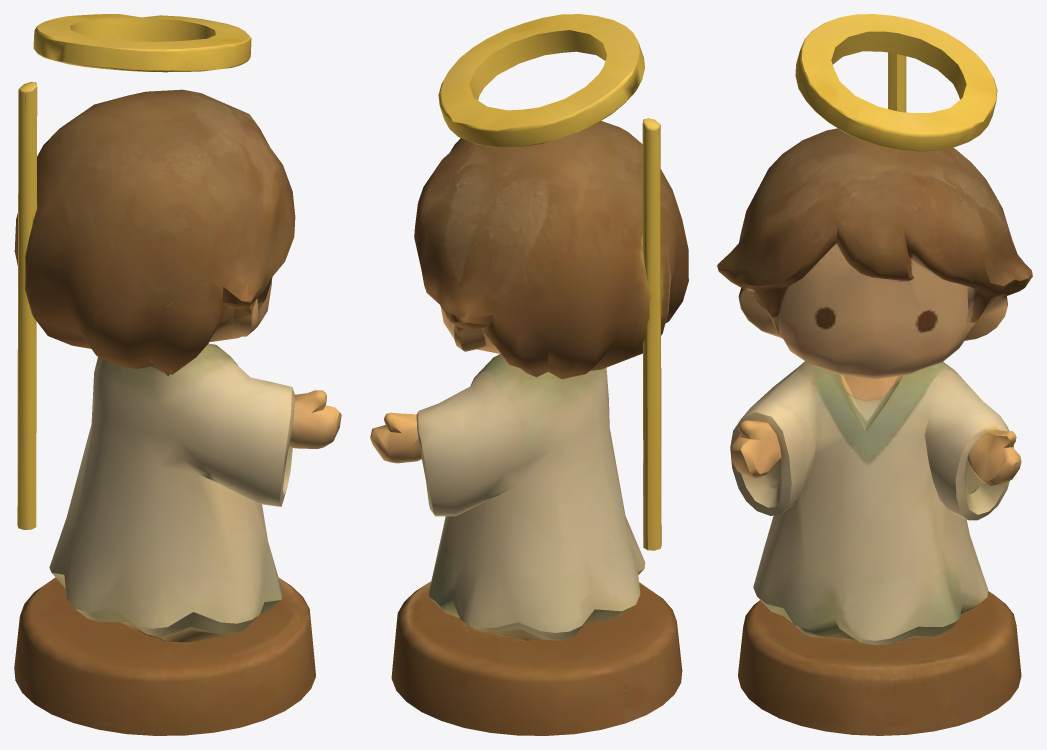
The model's file is intern_statue.glb.
3 views of the same model, side by side, from view 1: azimuth 30°, elevation 25°; view 2: azimuth 150°, elevation 25°; view 3: azimuth 270°, elevation 25° (orthographic). The views are drawn at different scales.
Visible parts, largest first — view 1: tripo_node_6020aafd-c689-4e54-8450-03ed18a6d392; view 2: tripo_node_6020aafd-c689-4e54-8450-03ed18a6d392; view 3: tripo_node_6020aafd-c689-4e54-8450-03ed18a6d392.
Part boxes in pixels (bbox=[...]): tripo_node_6020aafd-c689-4e54-8450-03ed18a6d392: bbox=[14, 14, 341, 735]; tripo_node_6020aafd-c689-4e54-8450-03ed18a6d392: bbox=[370, 14, 688, 735]; tripo_node_6020aafd-c689-4e54-8450-03ed18a6d392: bbox=[717, 14, 1032, 735].
Size of the model in its own units: 0.4245 by 1 by 0.4606.
1 material, 1 textured.
